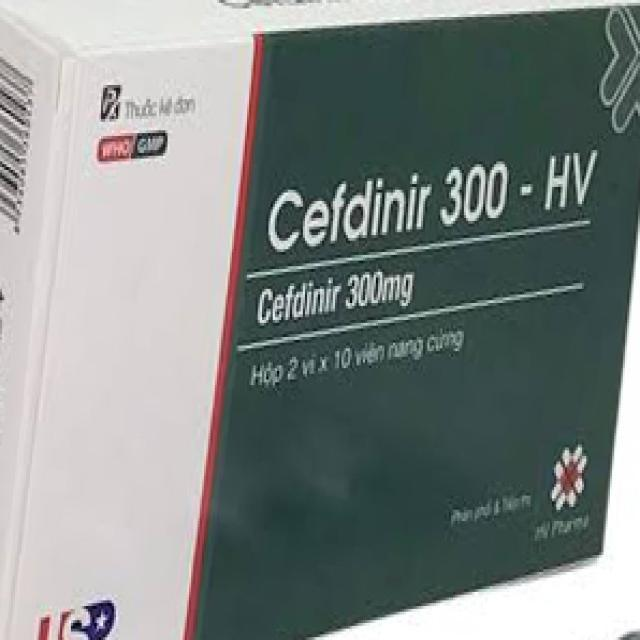drug-name: (265, 145, 606, 259)
